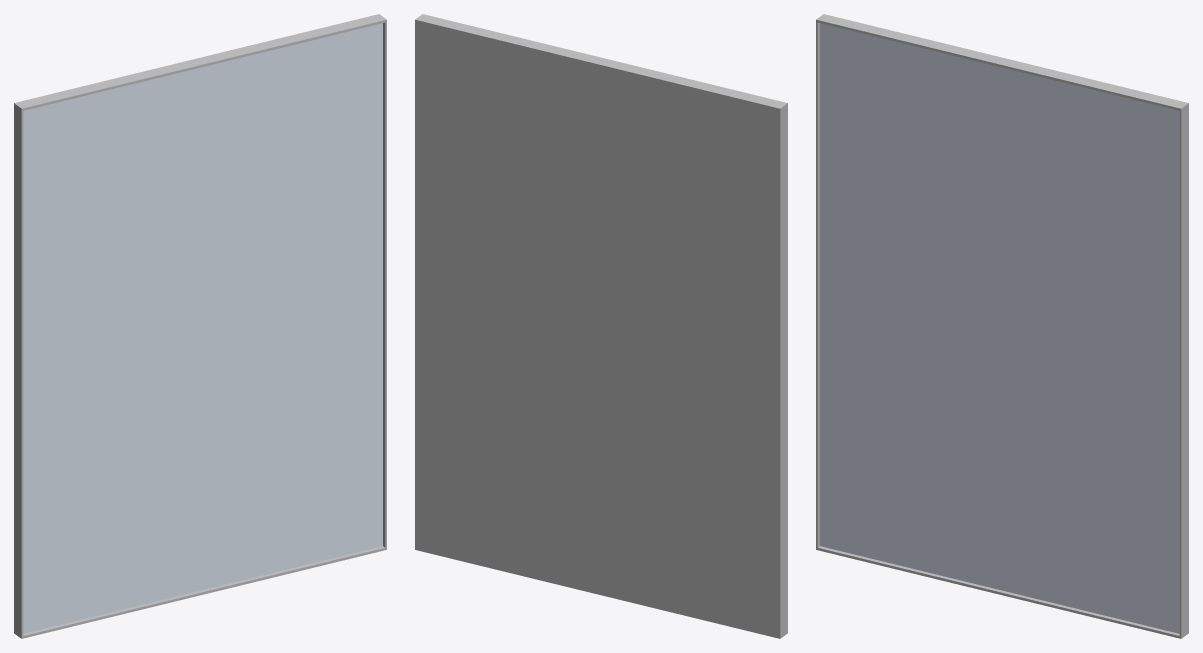
The model's file is mirror_0406.fbx.
3 renders of one model, left to right at view 1: azimuth 30°, elevation 25°; view 2: azimuth 150°, elevation 25°; view 3: azimuth 330°, elevation 25°, orthographic.
Visible parts, largest first — view 1: Box002; view 2: Box002; view 3: Box002.
Boxes of the visible parts, <box> form: Box002: <box>14,14,386,638</box>; Box002: <box>415,14,787,638</box>; Box002: <box>816,14,1188,638</box>.
Bounding box in the file's own units: 109 × 151 × 4.
1 material, 1 textured.
